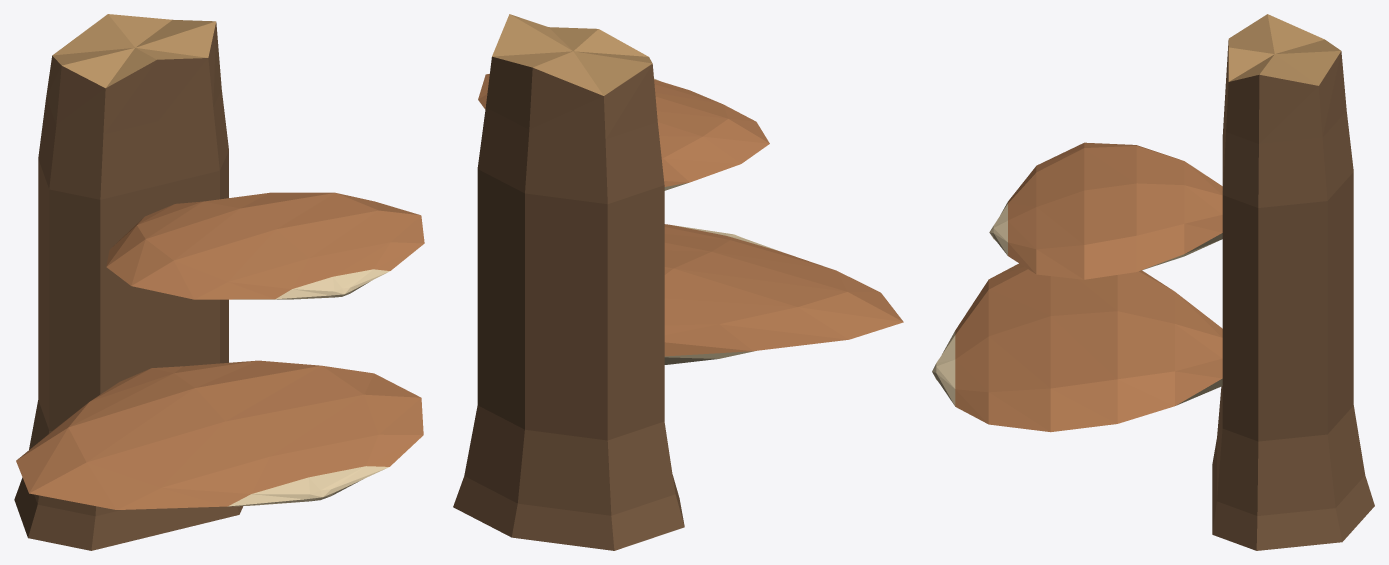
3 renders of one model, left to right at view 1: azimuth 30°, elevation 25°; view 2: azimuth 150°, elevation 25°; view 3: azimuth 270°, elevation 25°, orthographic. The views are drawn at different scales.
Parts seen in each view (by area): view 1: ContinuousWoodyHostAndTwoSessileFanShelves; view 2: ContinuousWoodyHostAndTwoSessileFanShelves; view 3: ContinuousWoodyHostAndTwoSessileFanShelves.
Part boxes in pixels (bbox=[...]): ContinuousWoodyHostAndTwoSessileFanShelves: bbox=[14, 14, 424, 550]; ContinuousWoodyHostAndTwoSessileFanShelves: bbox=[453, 14, 903, 550]; ContinuousWoodyHostAndTwoSessileFanShelves: bbox=[932, 14, 1374, 550].
Size of the model in its own units: 0.96 by 1.07 by 0.9284.
